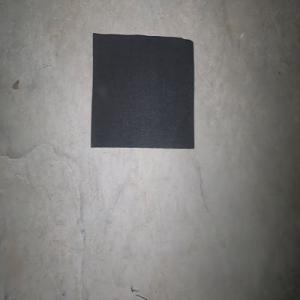PaintChip: (90, 32, 194, 148)
